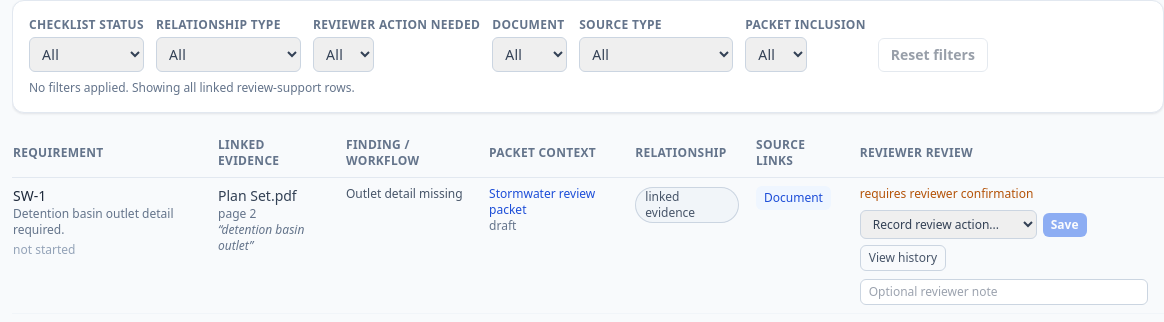
Test: Traceability matrix packet context and review controls › keeps source data visible after a link is rejected
Select "Reject link" in the dropdown named "Review action for SW-1". click: [948, 224]
box: [860,210,1037,239]
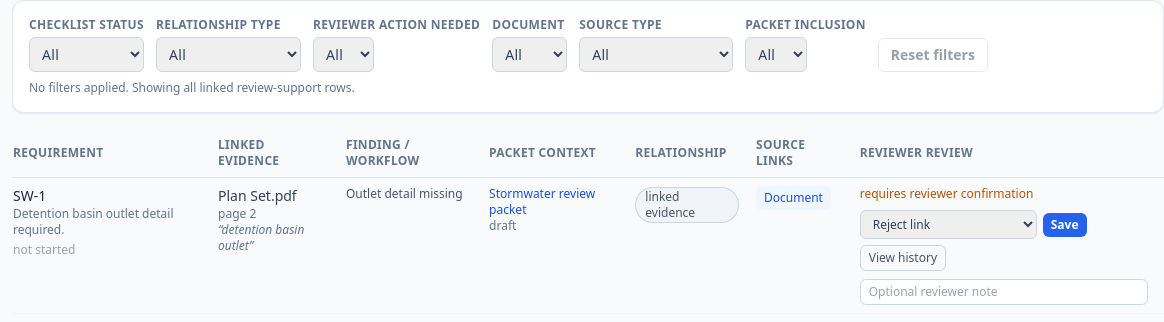
Click the button "Save". click: [1065, 224]
box: [1043,212,1086,236]
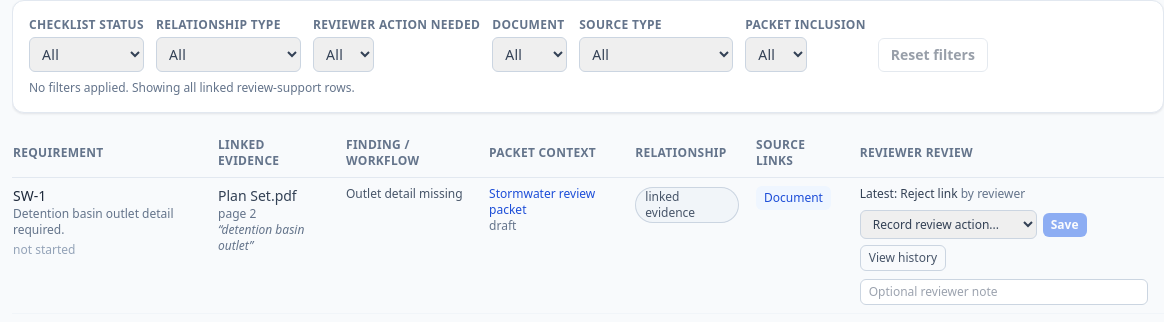
Expected: the text "Plan Set.pdf" is shown, [218,186,297,205]
Result: the text "requires reviewer confirmation" is gone
